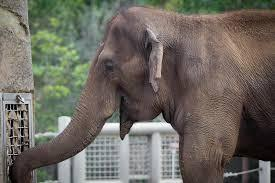elephant: (12, 7, 274, 182)
